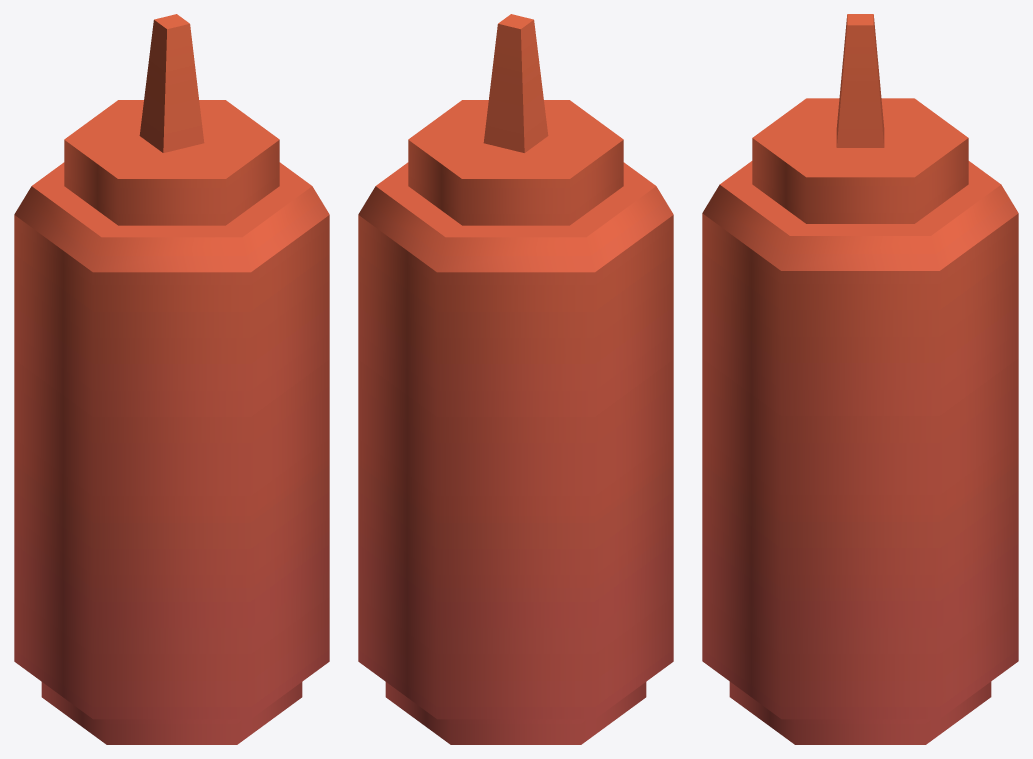
The model's file is ketchup.glb.
3 renders of one model, left to right at view 1: azimuth 30°, elevation 25°; view 2: azimuth 150°, elevation 25°; view 3: azimuth 270°, elevation 25°, orthographic.
Parts seen in each view (by area): view 1: bottle-ketchup; view 2: bottle-ketchup; view 3: bottle-ketchup.
Boxes of the visible parts, bbox=[...] form: bottle-ketchup: bbox=[14, 14, 329, 744]; bottle-ketchup: bbox=[358, 14, 673, 744]; bottle-ketchup: bbox=[702, 14, 1018, 744].
Size of the model in its own units: 0.1441 by 0.3931 by 0.1664.
Materials: 1 (1 with a texture image).
